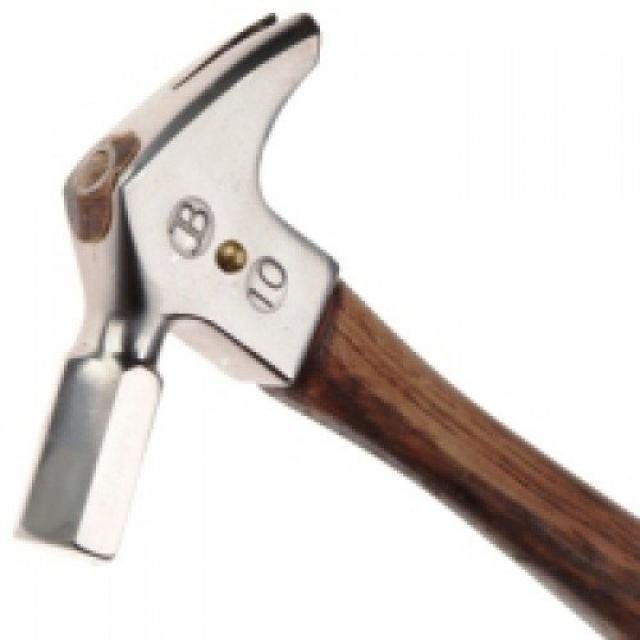hammer: (14, 5, 640, 640)
